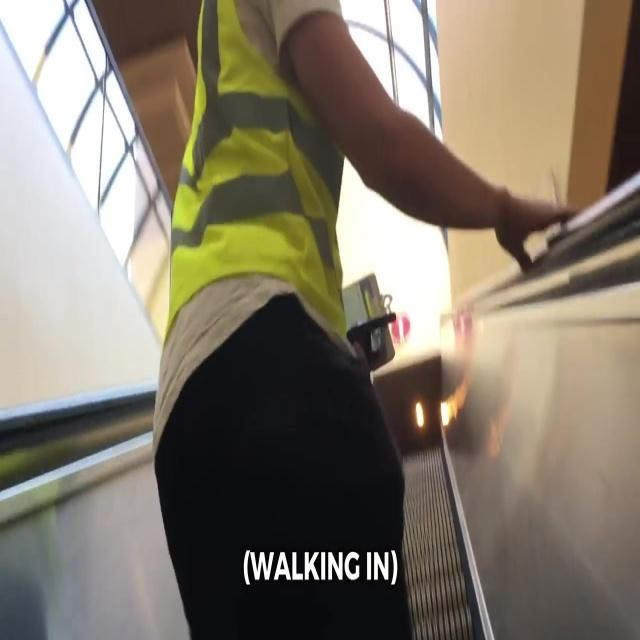vest: (164, 0, 348, 453)
